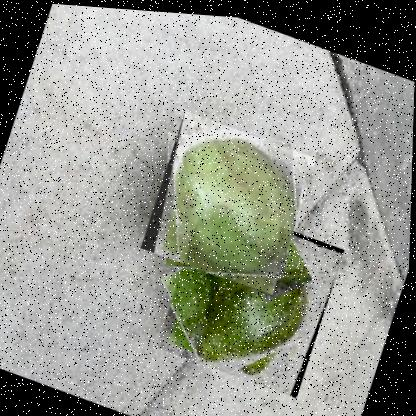guava: (156, 193, 347, 397), (140, 105, 318, 295)
